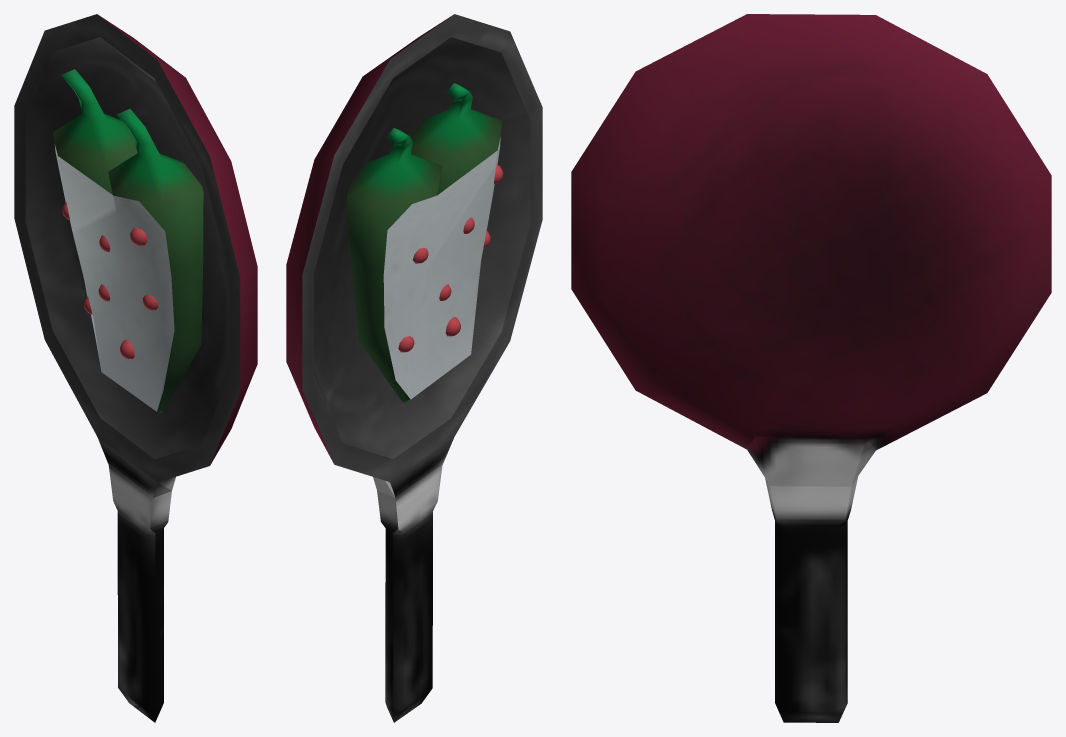
Rendered from AL_ChileNogada_Static.fbx.
The picture shows the model from 3 angles, left to right: view 1: azimuth 30°, elevation 25°; view 2: azimuth 150°, elevation 25°; view 3: azimuth 270°, elevation 25°; orthographic projection. The views are drawn at different scales.
Visible parts, largest first — view 1: sarten; view 2: sarten; view 3: sarten.
Part boxes in pixels (x1,y1,x2,y2): sarten: [14, 14, 257, 722]; sarten: [286, 14, 542, 722]; sarten: [571, 14, 1051, 722].
Bounding box in the file's own units: 0.4341 × 0.6984 × 0.099.
